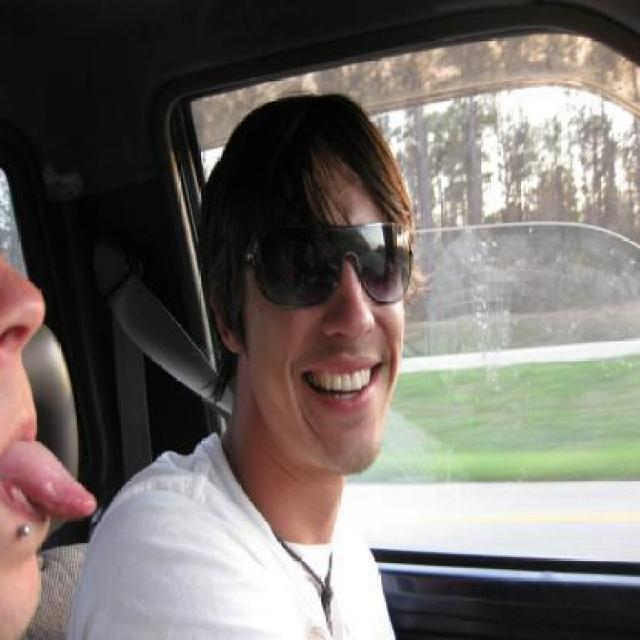face_nomask: (245, 224, 407, 416)
glasses: (206, 198, 412, 352)
head_nohelmet: (208, 93, 407, 204)
